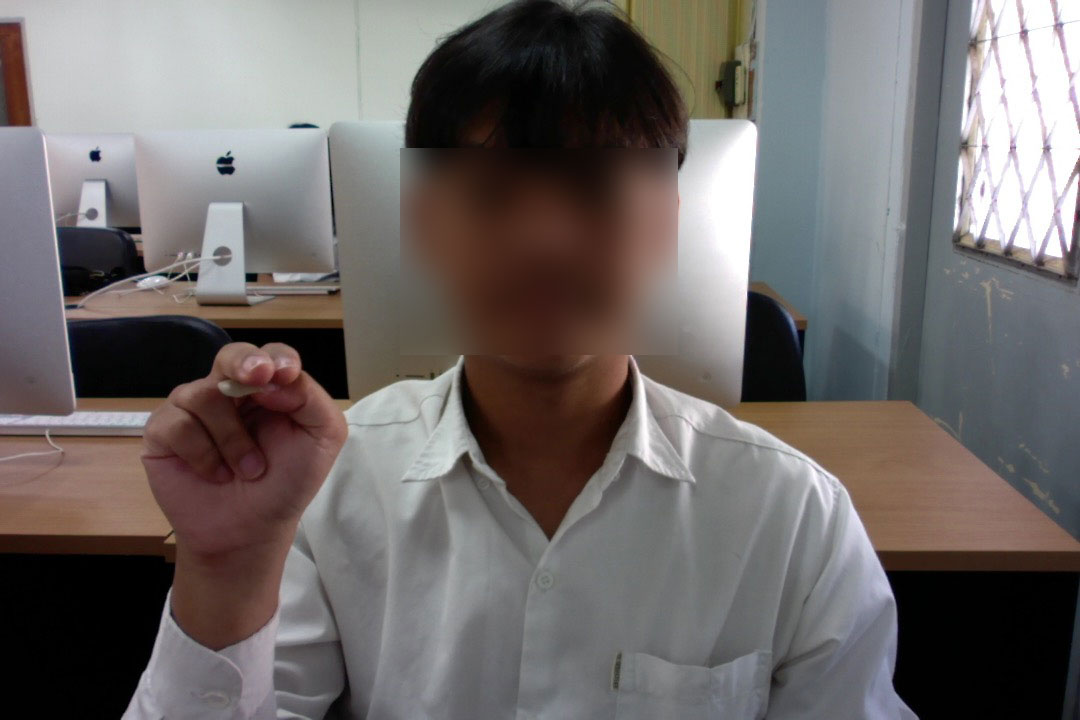nor: (137, 326, 355, 545)
